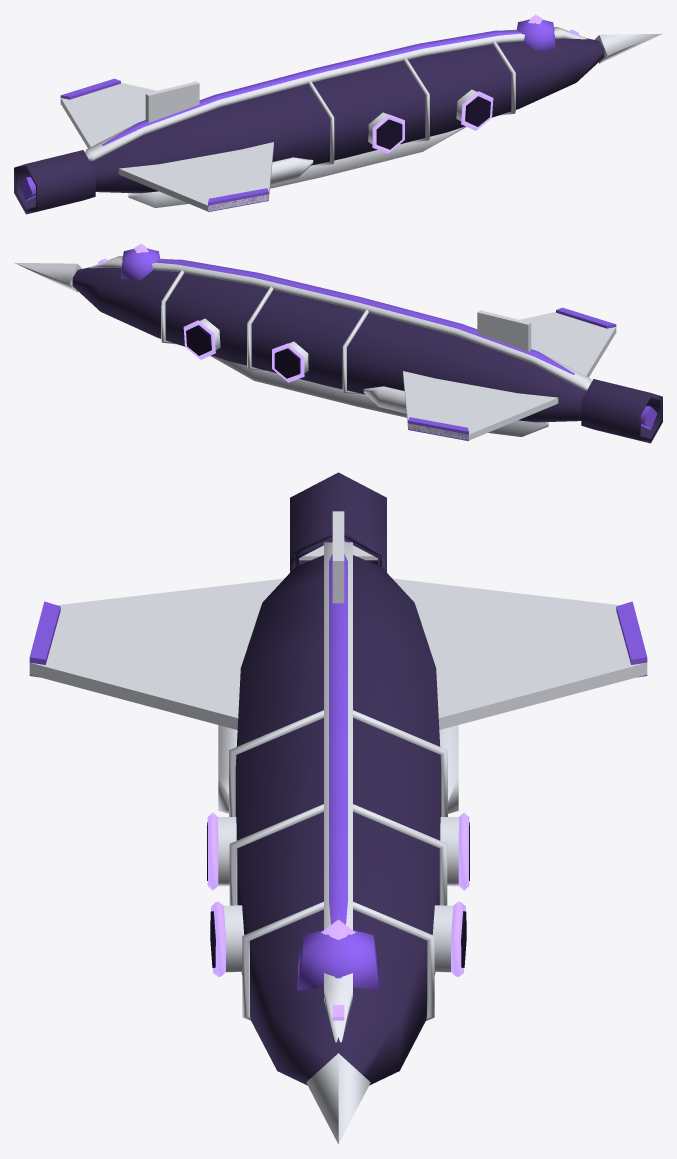
Rendered from verger-hadron.glb.
3 renders of one model, top to bottom at view 1: azimuth 30°, elevation 25°; view 2: azimuth 150°, elevation 25°; view 3: azimuth 270°, elevation 25°, orthographic. The views are drawn at different scales.
Parts seen in each view (by area): view 1: blade_hull, guard_wing_s, blade_spine, drive_duct, guard_wing_p, keel, spine_inlay, dorsal_fin, listening_dome, bow_prism, ballast_pod_s, guard_edge_s (+8 smaller); view 2: blade_hull, guard_wing_p, blade_spine, drive_duct, guard_wing_s, keel, spine_inlay, dorsal_fin, listening_dome, bow_prism, ballast_pod_p, guard_edge_p (+8 smaller); view 3: blade_hull, guard_wing_s, guard_wing_p, spine_inlay, drive_duct, blade_spine, listening_dome, bow_prism, pressure_rib_2, pressure_rib_1, pressure_rib_0, hatch_1_s_collar (+8 smaller).
Boxes of the visible parts, bbox=[...] form: blade_hull: bbox=[90, 38, 604, 193]; guard_wing_s: bbox=[118, 142, 273, 211]; blade_spine: bbox=[85, 27, 586, 161]; drive_duct: bbox=[14, 150, 95, 214]; guard_wing_p: bbox=[60, 83, 156, 148]; keel: bbox=[128, 126, 466, 207]; spine_inlay: bbox=[102, 30, 555, 145]; dorsal_fin: bbox=[145, 81, 199, 122]; listening_dome: bbox=[517, 19, 556, 50]; bow_prism: bbox=[595, 33, 662, 63]; ballast_pod_s: bbox=[270, 157, 313, 184]; guard_edge_s: bbox=[208, 188, 268, 212]; blade_hull: bbox=[72, 267, 586, 422]; guard_wing_p: bbox=[403, 371, 558, 440]; blade_spine: bbox=[90, 256, 591, 390]; drive_duct: bbox=[581, 379, 662, 443]; guard_wing_s: bbox=[520, 312, 616, 377]; keel: bbox=[210, 355, 548, 436]; spine_inlay: bbox=[121, 259, 574, 374]; dorsal_fin: bbox=[477, 310, 531, 351]; listening_dome: bbox=[120, 248, 159, 279]; bow_prism: bbox=[14, 262, 81, 292]; ballast_pod_p: bbox=[363, 386, 406, 413]; guard_edge_p: bbox=[408, 417, 468, 441]; blade_hull: bbox=[235, 555, 441, 1085]; guard_wing_s: bbox=[29, 578, 283, 729]; guard_wing_p: bbox=[393, 578, 647, 729]; spine_inlay: bbox=[329, 554, 347, 978]; drive_duct: bbox=[290, 472, 386, 572]; blade_spine: bbox=[324, 542, 352, 1042]; listening_dome: bbox=[297, 930, 379, 990]; bow_prism: bbox=[306, 1053, 370, 1144]; pressure_rib_2: bbox=[242, 901, 434, 1020]; pressure_rib_1: bbox=[229, 804, 447, 905]; pressure_rib_0: bbox=[229, 710, 447, 816]; hatch_1_s_collar: bbox=[223, 905, 244, 972].
Size of the model in its own units: 100 by 18.49 by 42.
